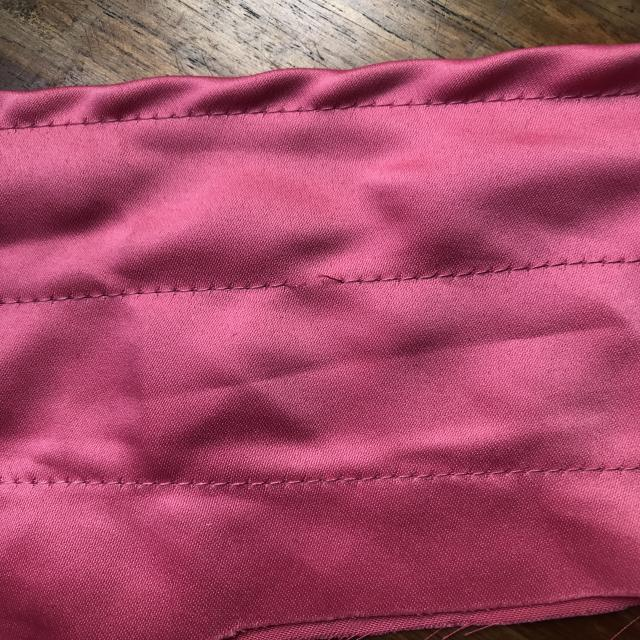broken: (246, 263, 366, 303)
